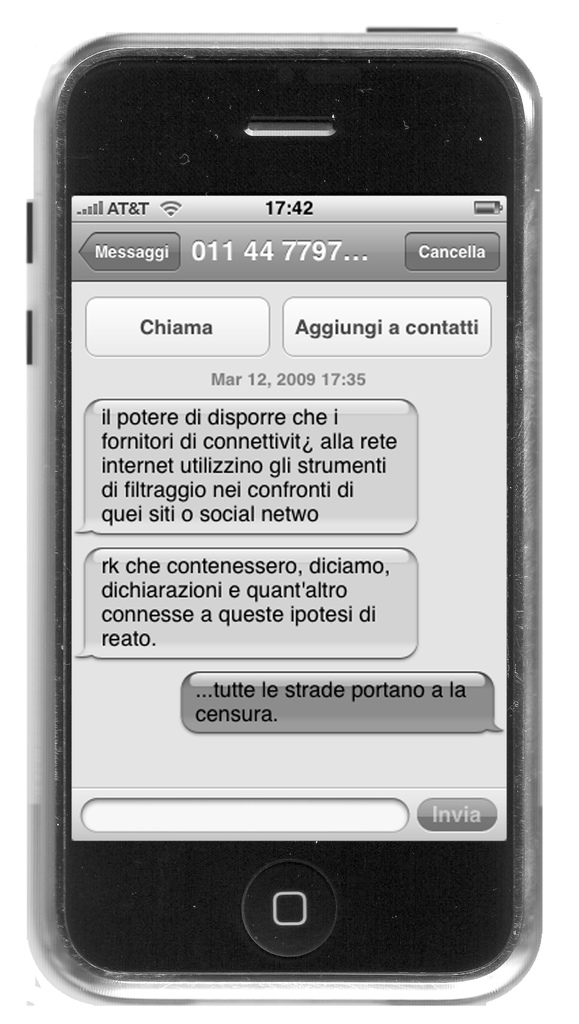Mobile-phone: (36, 22, 542, 1002)
